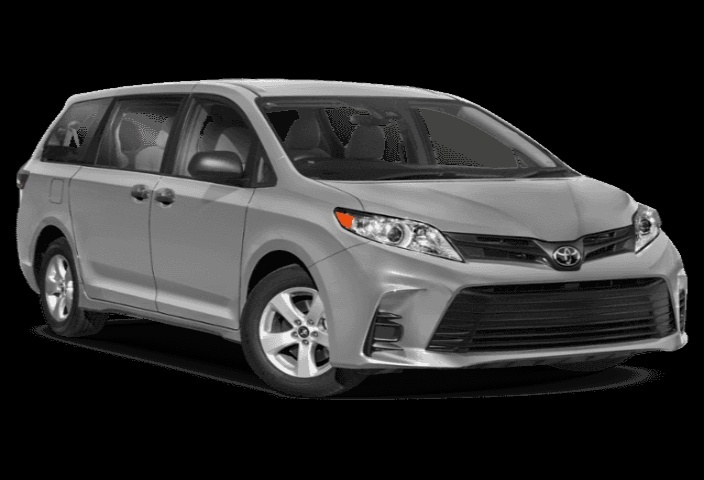camper: (12, 58, 704, 415)
